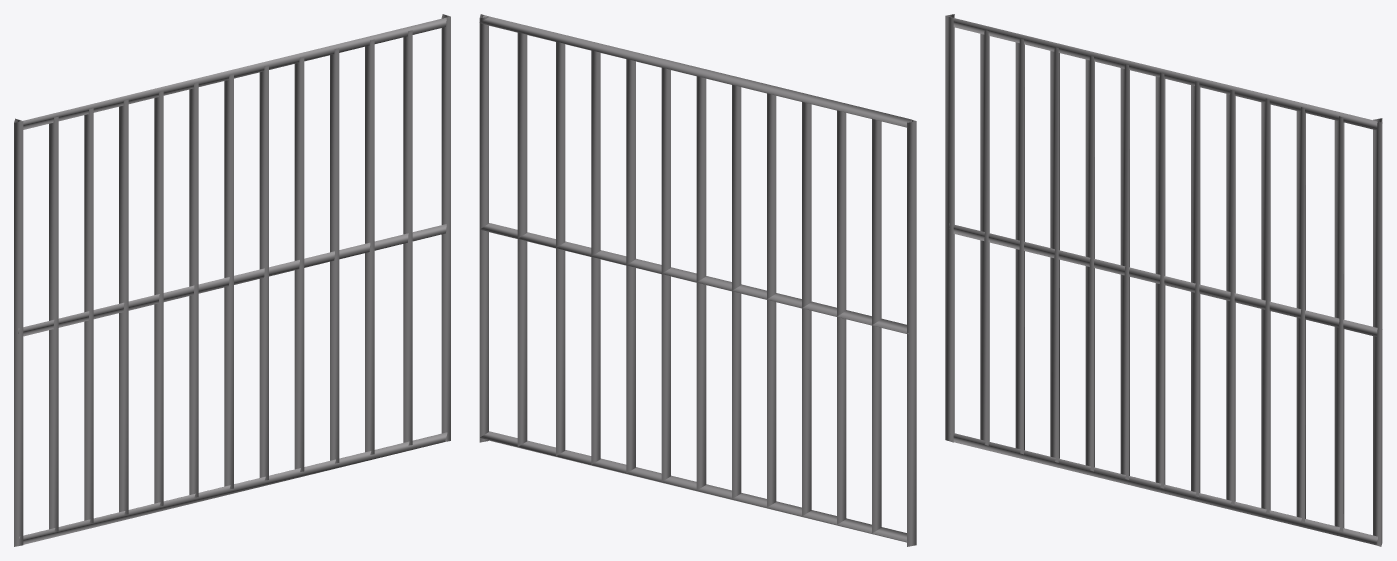
The model's file is INST_SWORDLIGHT_JALLHALLDOOR_ANI1.obj.
3 views of the same model, side by side, from view 1: azimuth 30°, elevation 25°; view 2: azimuth 150°, elevation 25°; view 3: azimuth 330°, elevation 25° (orthographic).
Visible parts, largest first — view 1: allDoor_Lod1_01; view 2: allDoor_Lod1_01; view 3: allDoor_Lod1_01.
Part boxes in pixels (x1,y1,x2,y2): allDoor_Lod1_01: (14,14,450,546); allDoor_Lod1_01: (479,14,916,546); allDoor_Lod1_01: (945,14,1382,546).
Bounding box in the file's own units: 885 × 822 × 16.67.
